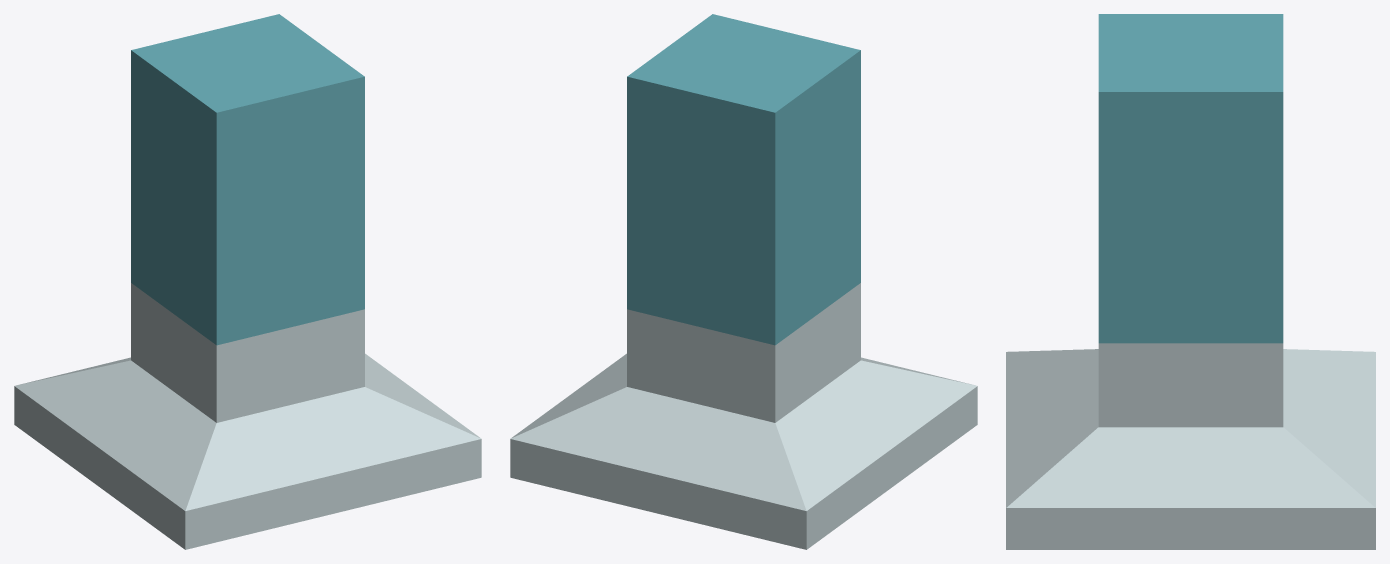
The model's file is pipe_supportLow.glb.
3 views of the same model, side by side, from view 1: azimuth 30°, elevation 25°; view 2: azimuth 150°, elevation 25°; view 3: azimuth 270°, elevation 25° (orthographic). The views are drawn at different scales.
Parts seen in each view (by area): view 1: pipe_supportLow; view 2: pipe_supportLow; view 3: pipe_supportLow.
Part boxes in pixels (x1,y1,x2,y2): pipe_supportLow: (14, 14, 481, 549); pipe_supportLow: (510, 14, 977, 549); pipe_supportLow: (1006, 14, 1375, 549).
Bounding box in the file's own units: 0.4 × 0.5 × 0.4.
